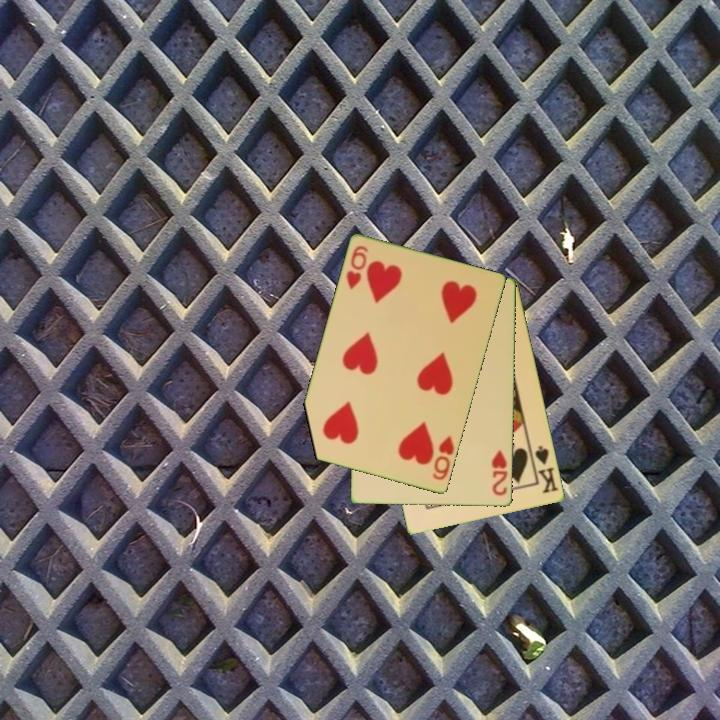2h: (488, 447, 510, 499)
6h: (429, 432, 457, 484), (343, 242, 371, 293)
Ks: (527, 442, 561, 496)
